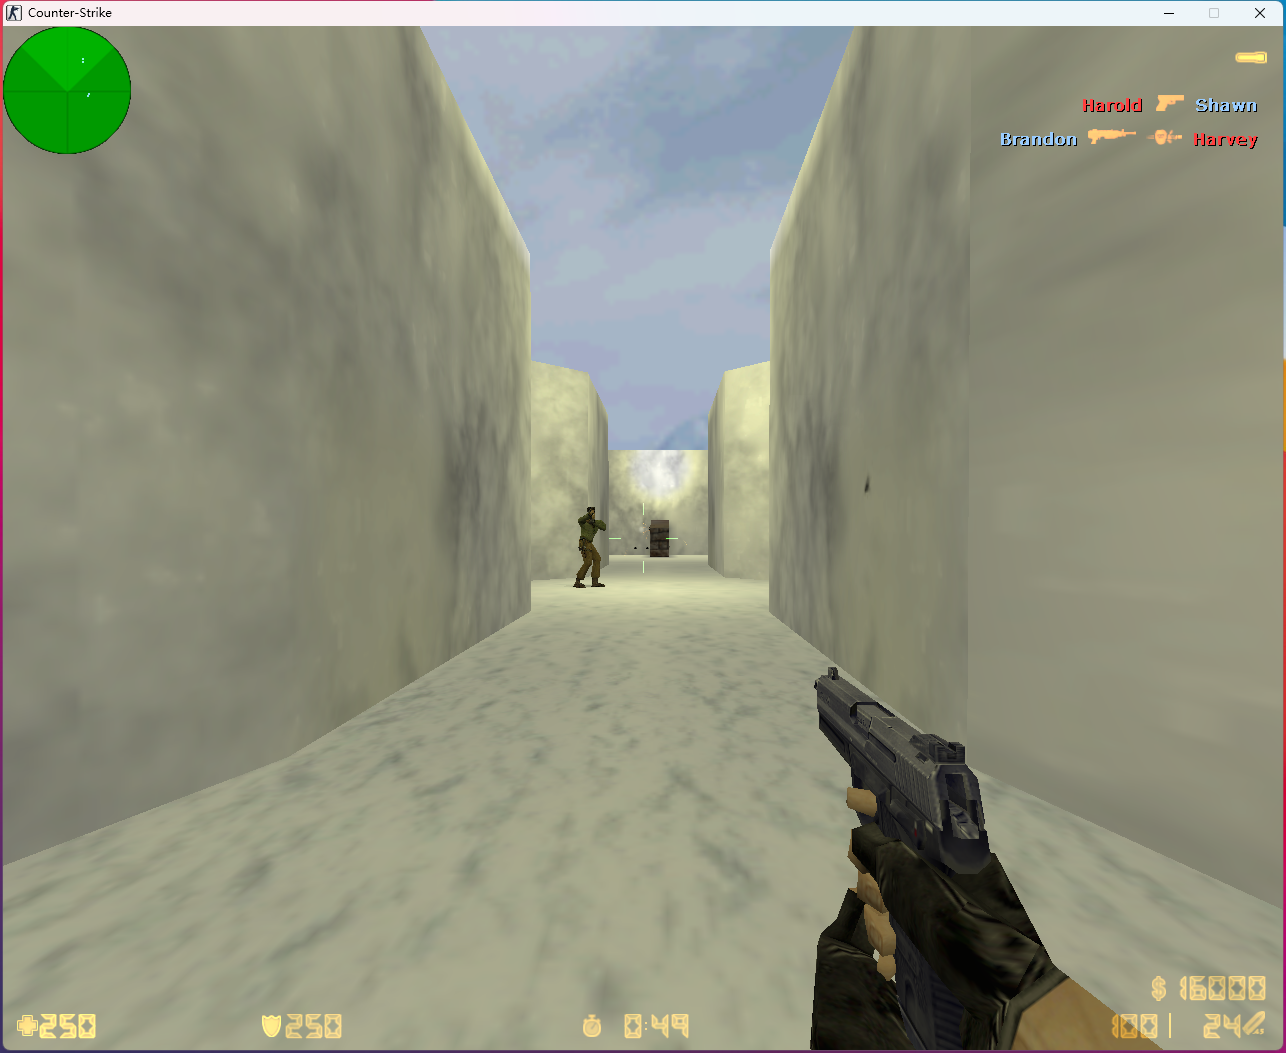T: (578, 507, 603, 590)
